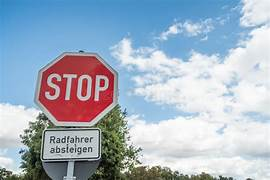stop: (34, 51, 117, 127)
